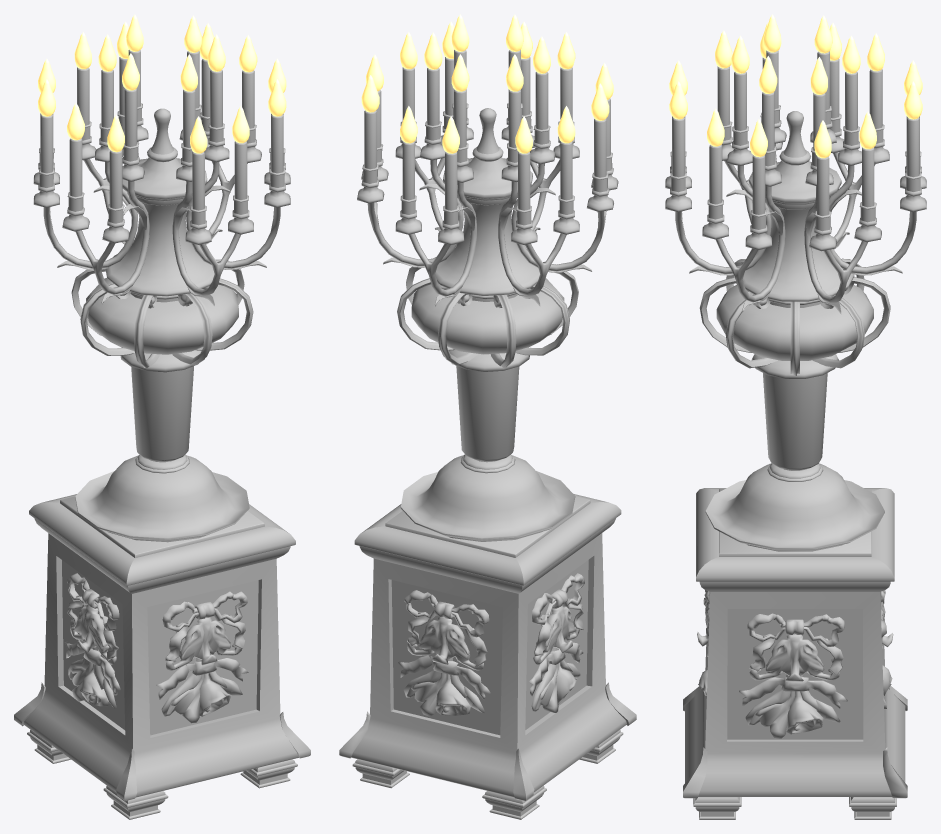
Rendered from sceneLamp.gltf.
3 renders of one model, left to right at view 1: azimuth 30°, elevation 25°; view 2: azimuth 150°, elevation 25°; view 3: azimuth 270°, elevation 25°, orthographic.
Visible parts, largest first — view 1: Cube.256; view 2: Cube.256; view 3: Cube.256.
Boxes of the visible parts, bbox=[...] form: Cube.256: bbox=[14, 14, 310, 819]; Cube.256: bbox=[339, 14, 636, 819]; Cube.256: bbox=[665, 14, 926, 819].
Bounding box in the file's own units: 34.38 × 107 × 33.99.
